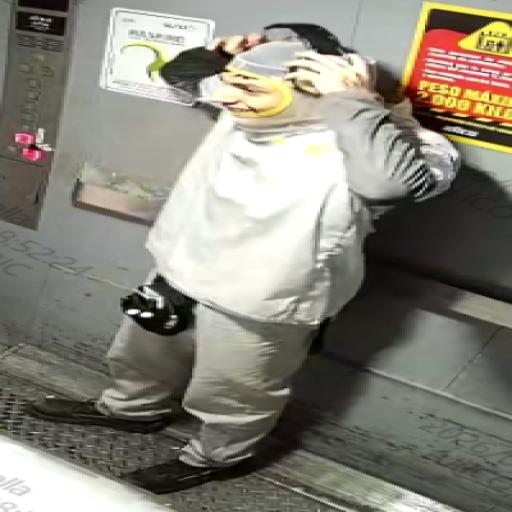person: (51, 14, 478, 492)
